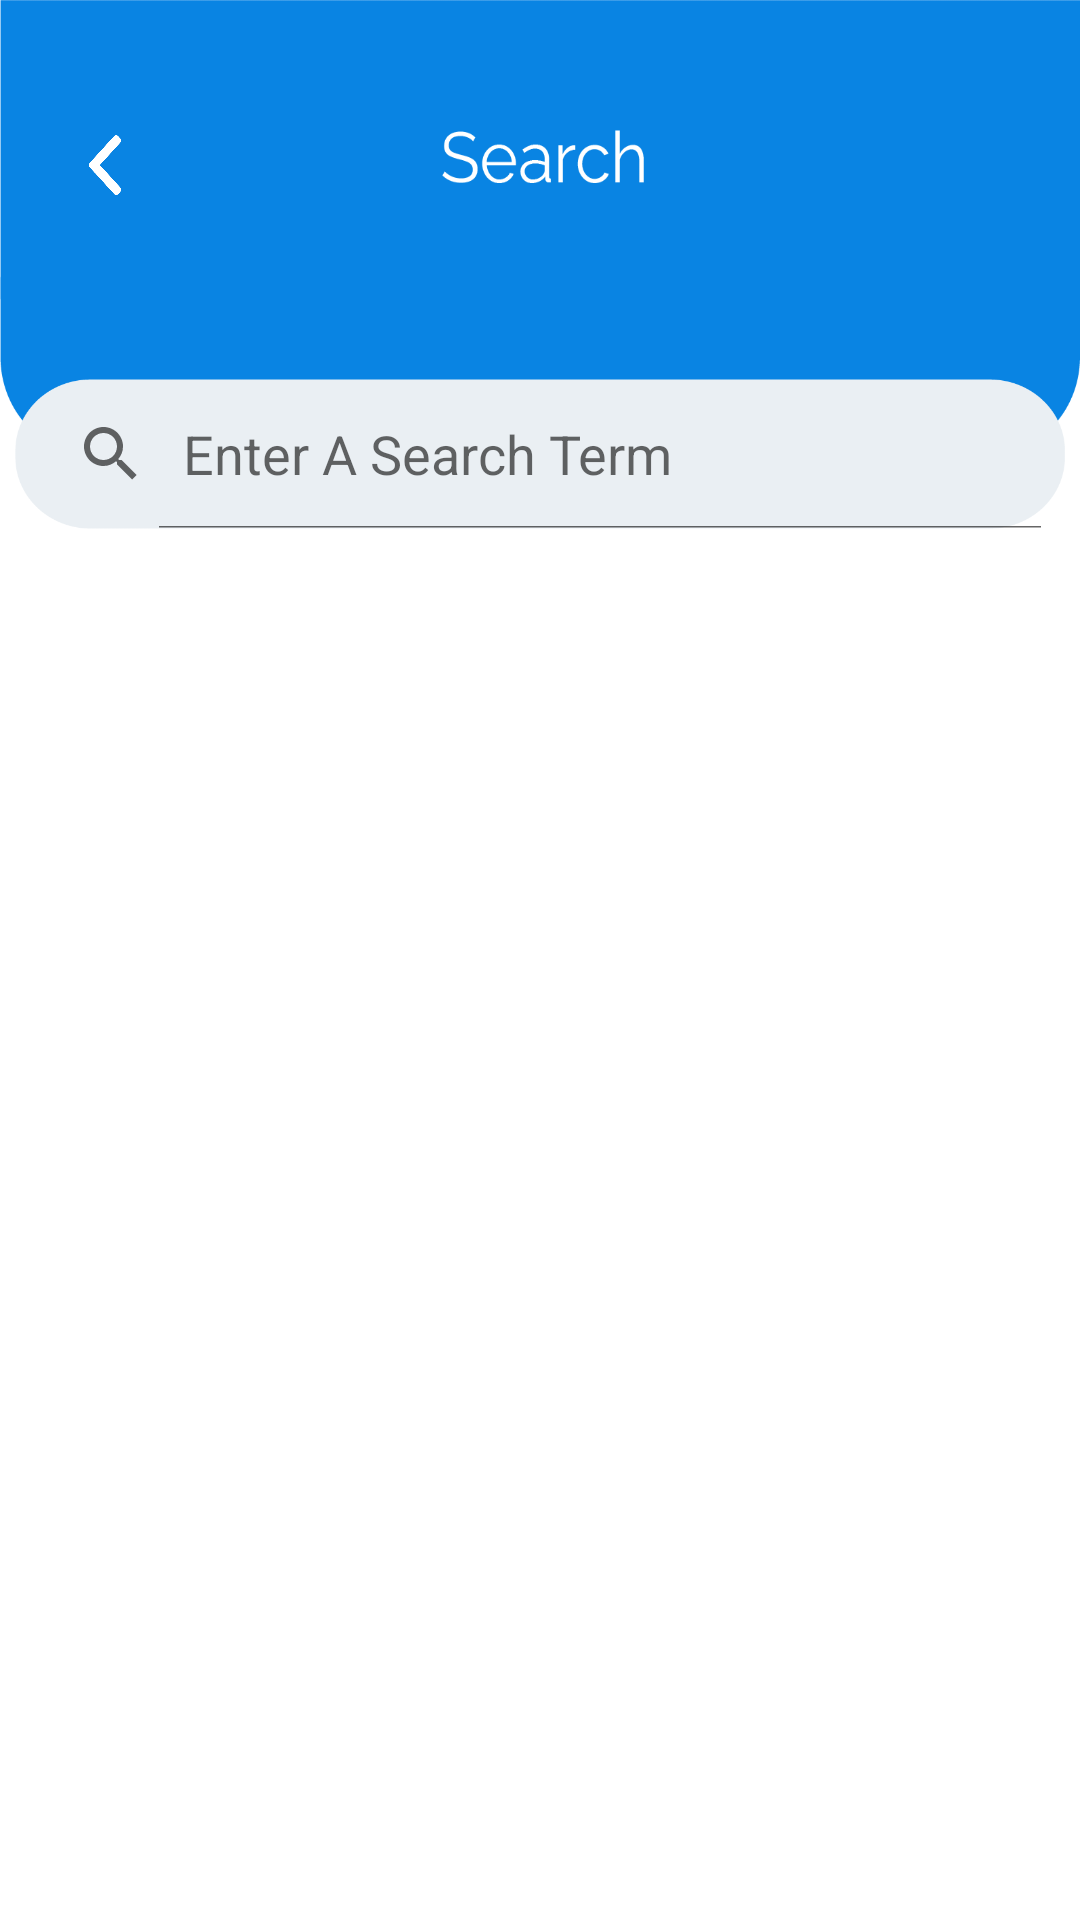

Named icons in this screenshot (1080w x 1920h) and their bounding boxes, (x1, y1, x2, y2):
left arrow: (89, 135, 121, 195)
